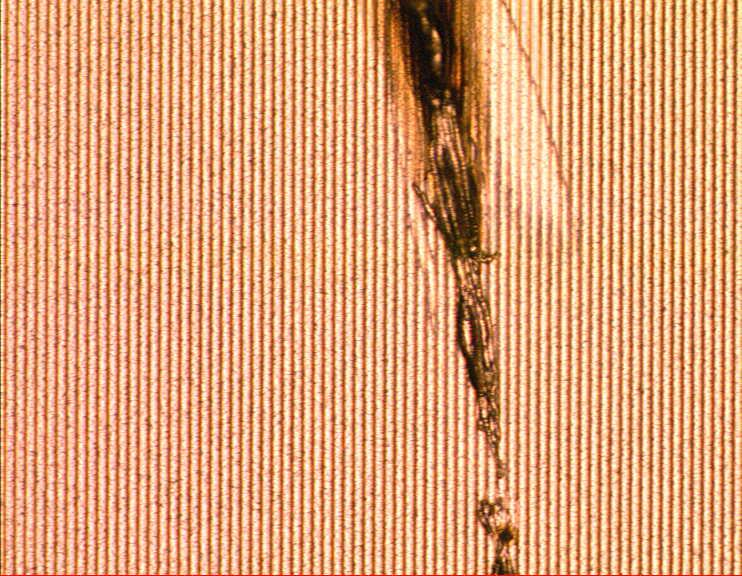SCRATCH: (348, 1, 582, 576)
